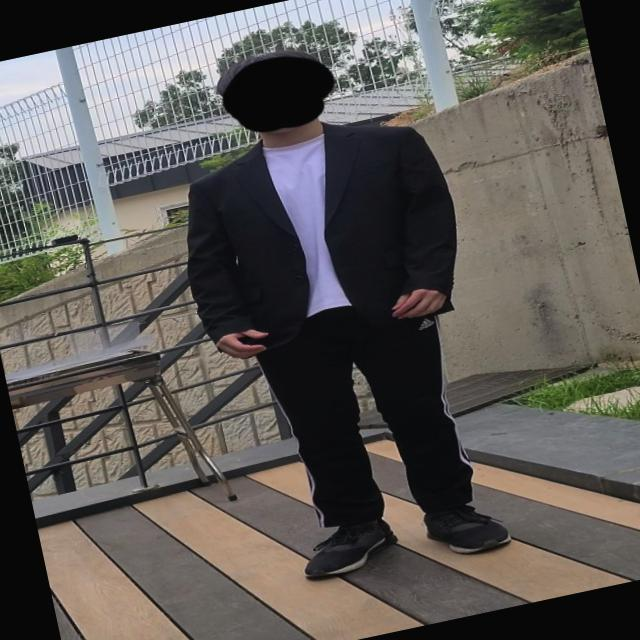blazer: (168, 104, 477, 362)
trainingpants: (233, 281, 482, 547)
